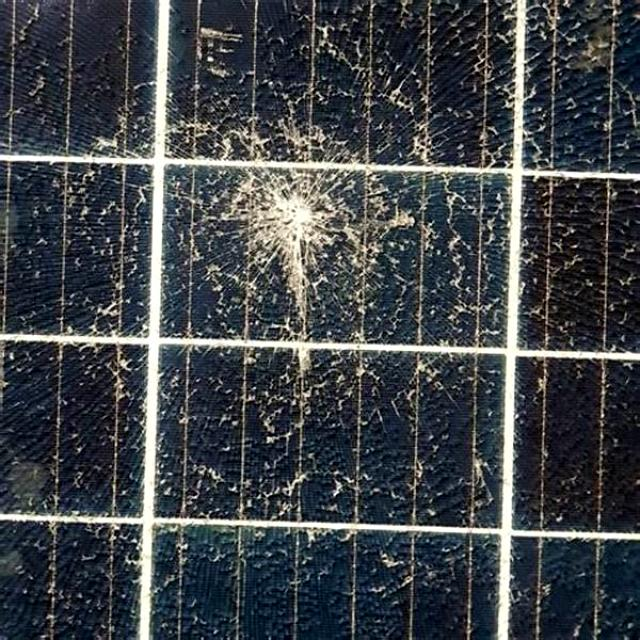hotspot: (202, 357, 492, 507), (184, 124, 432, 294)
